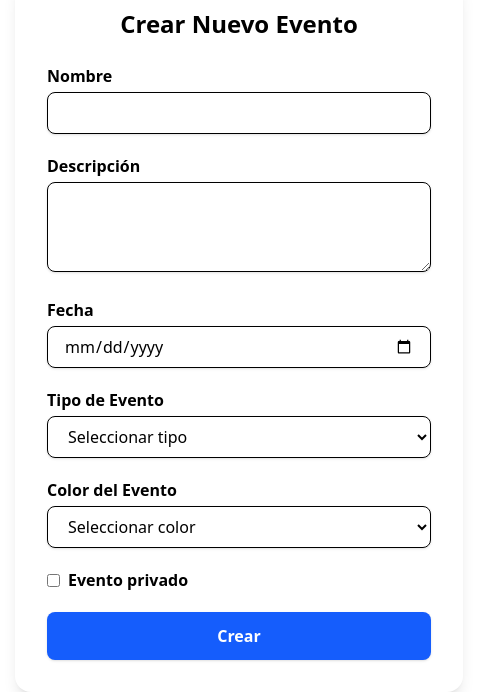
Test: Formulario de Evento › Modo creación › Valida que todos los campos obligatorios sean requeridos
(page scrolled)
What coordinates should you click on to do the following:
click the submit button
I would click on:
 (239, 636)
Its box is [47,612,431,660].
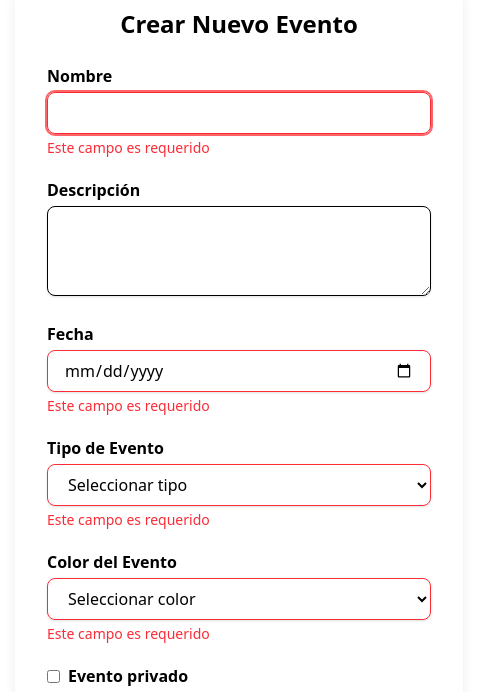
expect the number of elements "Este campo es requerido" is at least 1: met, box [47,138,210,157]
